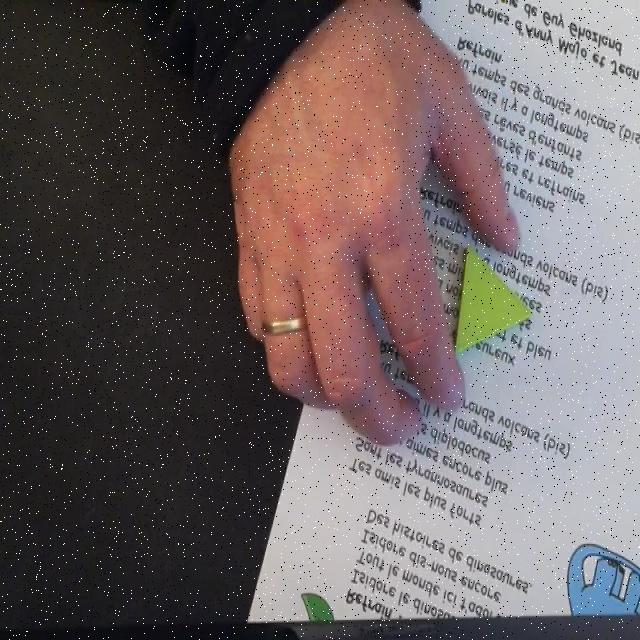triangle: (453, 244, 534, 358)
